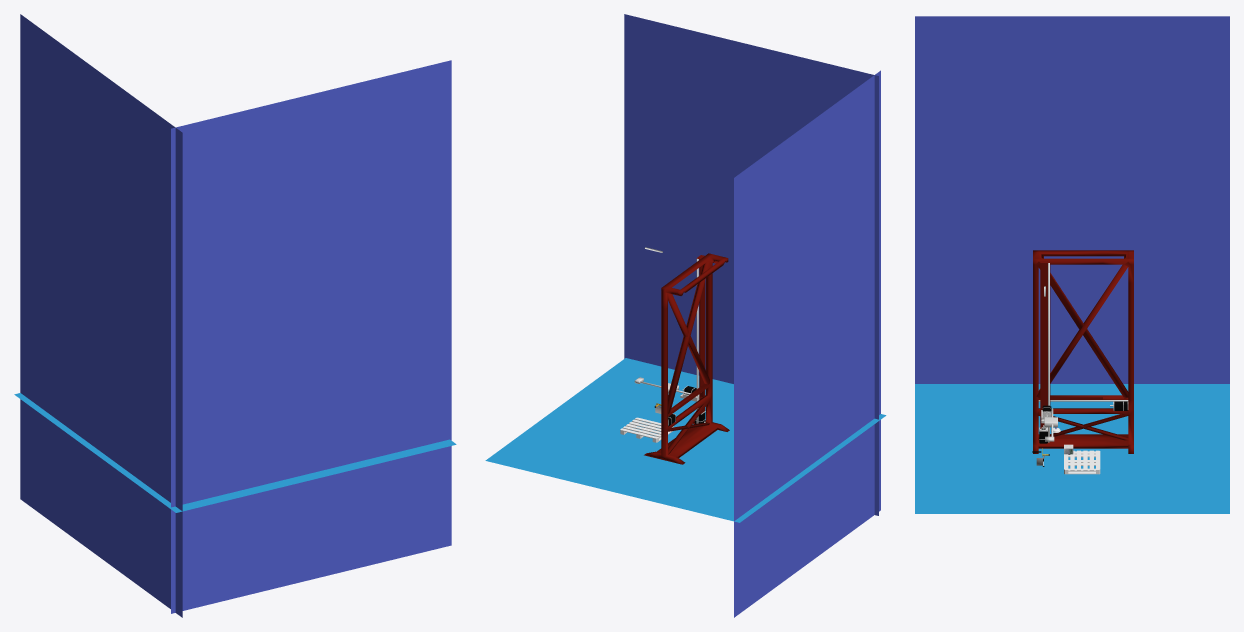
File: paletizadora.glb
The picture shows the model from 3 angles, left to right: view 1: azimuth 30°, elevation 25°; view 2: azimuth 150°, elevation 25°; view 3: azimuth 270°, elevation 25°; orthographic projection. The views are drawn at different scales.
Visible parts, largest first — view 1: Plane.005, Plane.004, Plane.003; view 2: Plane.004, Plane.005, Plane.003, Cube.003, Palet, Plane; view 3: Plane.004, Plane.003, Cube.003, Plane, Palet.
Part boxes in pixels (x1,y1,x2,y2): Plane.005: (171,60,451,613); Plane.004: (20,14,182,617); Plane.003: (14,393,456,512); Plane.004: (734,70,880,617); Plane.005: (624,14,878,515); Plane.003: (485,358,886,522); Cube.003: (644,253,729,464); Palet: (620,417,672,442); Plane: (696,255,705,414); Plane.004: (915,16,1229,383); Plane.003: (915,384,1229,513); Cube.003: (1033,250,1133,453); Plane: (1040,261,1050,428); Palet: (1064,450,1100,474).
Size of the model in its own units: 69.61 by 114 by 69.18.
Materials: 12 (1 with a texture image).
